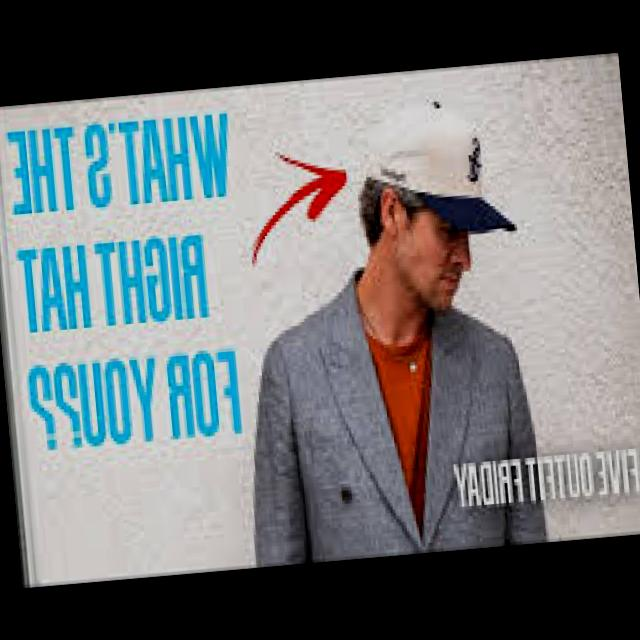hat: (368, 102, 513, 234)
